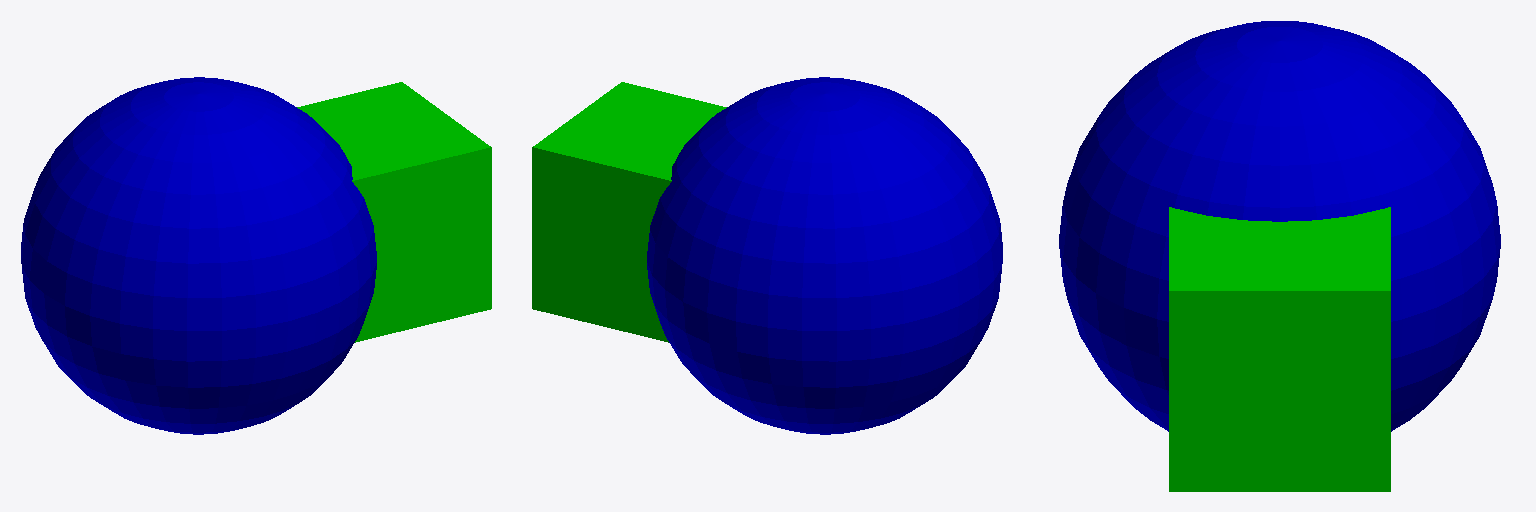
robot.urdf — A_vs_B:
<?xml version="1.0"?>
<robot name="A_vs_B">
  <material name="blue">
    <color rgba="0 0 0.8 .5"/>
  </material>
  <material name="green">
    <color rgba="0 0.8 0 .5"/>
  </material>
  <link name="A">
    <visual>
      <geometry>
        <sphere radius="1"/>
      </geometry>
      <origin rpy="0.0 0 0" xyz="-0.8 0 0"/>
      <material name="blue"/>
    </visual>
    <collision>
      <geometry>
        <sphere radius="1"/>
      </geometry>
      <origin rpy="0.0 0 0" xyz="-0.8 0 0"/>
      <material name="blue"/>
    </collision>
  </link>
  <link name="B">
    <visual>
      <geometry>
        <box size="1 1 1"/>
      </geometry>
      <origin rpy="0 0 0" xyz="0.3 0 0"/>
      <material name="green"/>
    </visual>
    <collision>
      <geometry>
        <box size="1 1 1"/>
      </geometry>
      <origin rpy="0 0 0" xyz="0.3 0 0"/>
      <material name="green"/>
    </collision>
  </link>
  <joint name="joint1" type="revolute">
    <axis xyz="0 0 1"/>
    <limit effort="1" lower="-1" upper="1" velocity="1"/>
    <origin rpy="0 0 0" xyz="0 0 0"/>
    <parent link="A"/>
    <child link="B"/>
  </joint>
</robot>

--- What the picture shows (computed from the rendered views, not written in the file) ---
The picture shows the robot from 3 angles, left to right: view 1: azimuth 30°, elevation 25°; view 2: azimuth 150°, elevation 25°; view 3: azimuth 270°, elevation 25°; orthographic projection.
Model A_vs_B with 2 links and 1 joints (1 revolute), rooted at A, posed every joint at zero.
Links seen in each view (by area): view 1: A, B; view 2: A, B; view 3: A, B.
Link boxes in pixels (x1,y1,x2,y2): A: (21, 77, 376, 434); B: (297, 82, 491, 342); A: (647, 77, 1002, 434); B: (532, 82, 726, 342); A: (1059, 21, 1500, 431); B: (1169, 207, 1390, 491).
Size in the robot's own frame: 2.6 by 2 by 2 metres.
Geometry: primitives only (box / cylinder / sphere), no mesh files.